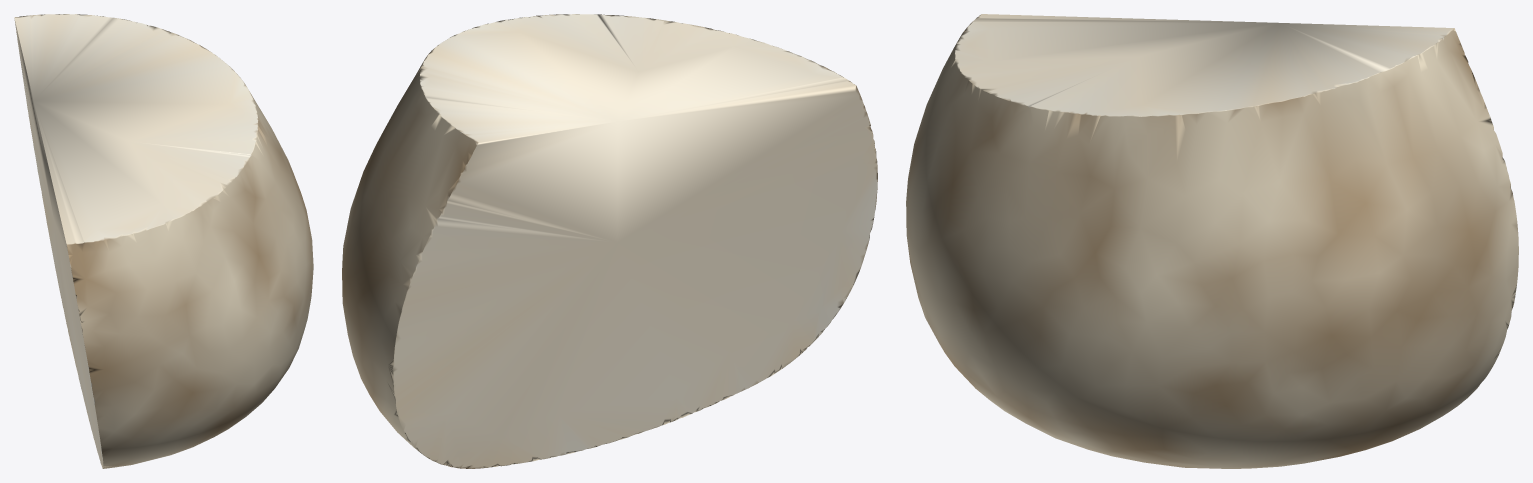
The model's file is amanita-scout-bulb1.glb.
3 views of the same model, side by side, from view 1: azimuth 30°, elevation 25°; view 2: azimuth 150°, elevation 25°; view 3: azimuth 270°, elevation 25° (orthographic). The views are drawn at different scales.
Parts seen in each view (by area): view 1: body; view 2: body; view 3: body.
Part boxes in pixels (<box>): body: <box>14,14,313,468</box>; body: <box>342,14,877,468</box>; body: <box>906,14,1518,468</box>.
Bounding box in the file's own units: 0.4807 × 0.4765 × 0.6526.
